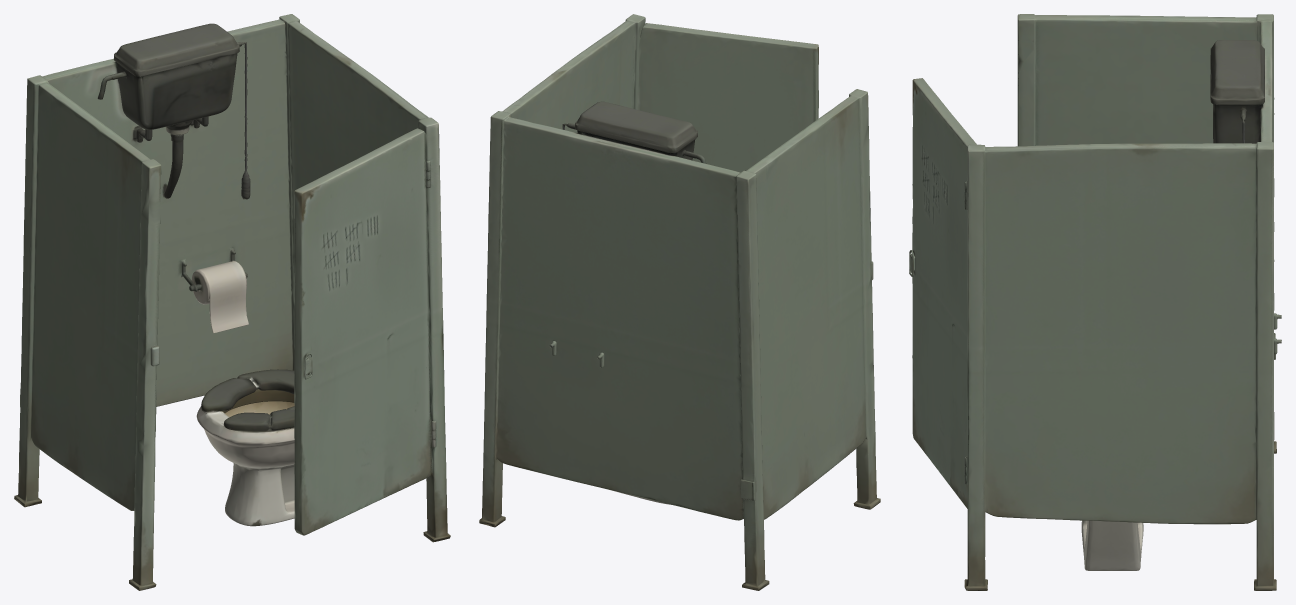
The model's file is silo81_toilet_stall.glb.
3 views of the same model, side by side, from view 1: azimuth 30°, elevation 25°; view 2: azimuth 150°, elevation 25°; view 3: azimuth 270°, elevation 25° (orthographic). The views are drawn at different scales.
Parts seen in each view (by area): view 1: tripo_node_1c996d1a-8c3e-4084-ab7b-a0b293dbe7c0; view 2: tripo_node_1c996d1a-8c3e-4084-ab7b-a0b293dbe7c0; view 3: tripo_node_1c996d1a-8c3e-4084-ab7b-a0b293dbe7c0.
Boxes of the visible parts, x1,y1,x2,y2 form: tripo_node_1c996d1a-8c3e-4084-ab7b-a0b293dbe7c0: (14,14,450,590); tripo_node_1c996d1a-8c3e-4084-ab7b-a0b293dbe7c0: (479,14,880,590); tripo_node_1c996d1a-8c3e-4084-ab7b-a0b293dbe7c0: (909,14,1281,590).
Size of the model in its own units: 0.6743 by 0.9792 by 0.726.
Materials: 1 (1 with a texture image).
